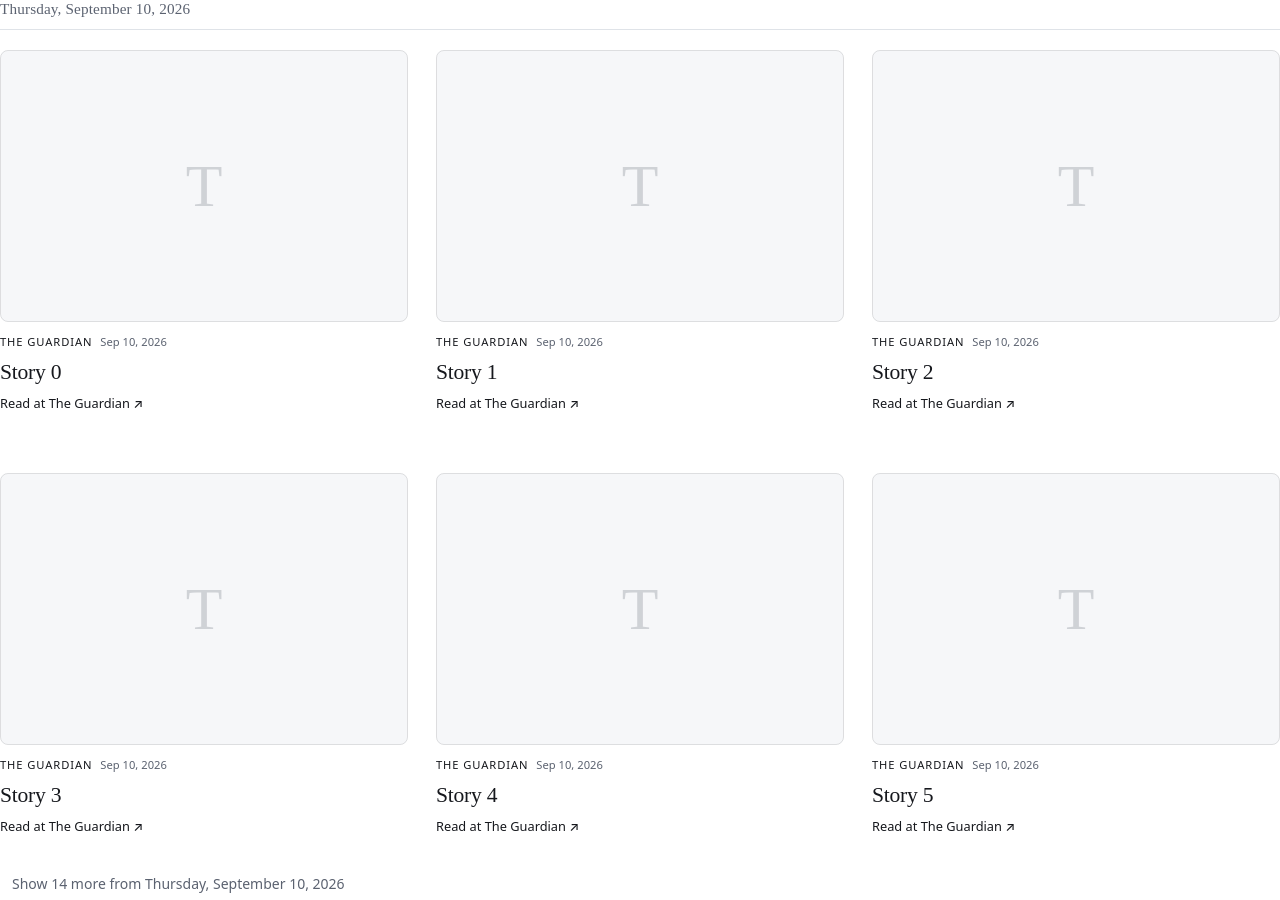
Scenario: DaySection › reveals the rest without fetching anything
This screenshot has width=1280, height=900.
Click the button "Show 14 more from Thursday, September 10, 2026" at (178,884), box [0,868,357,899]
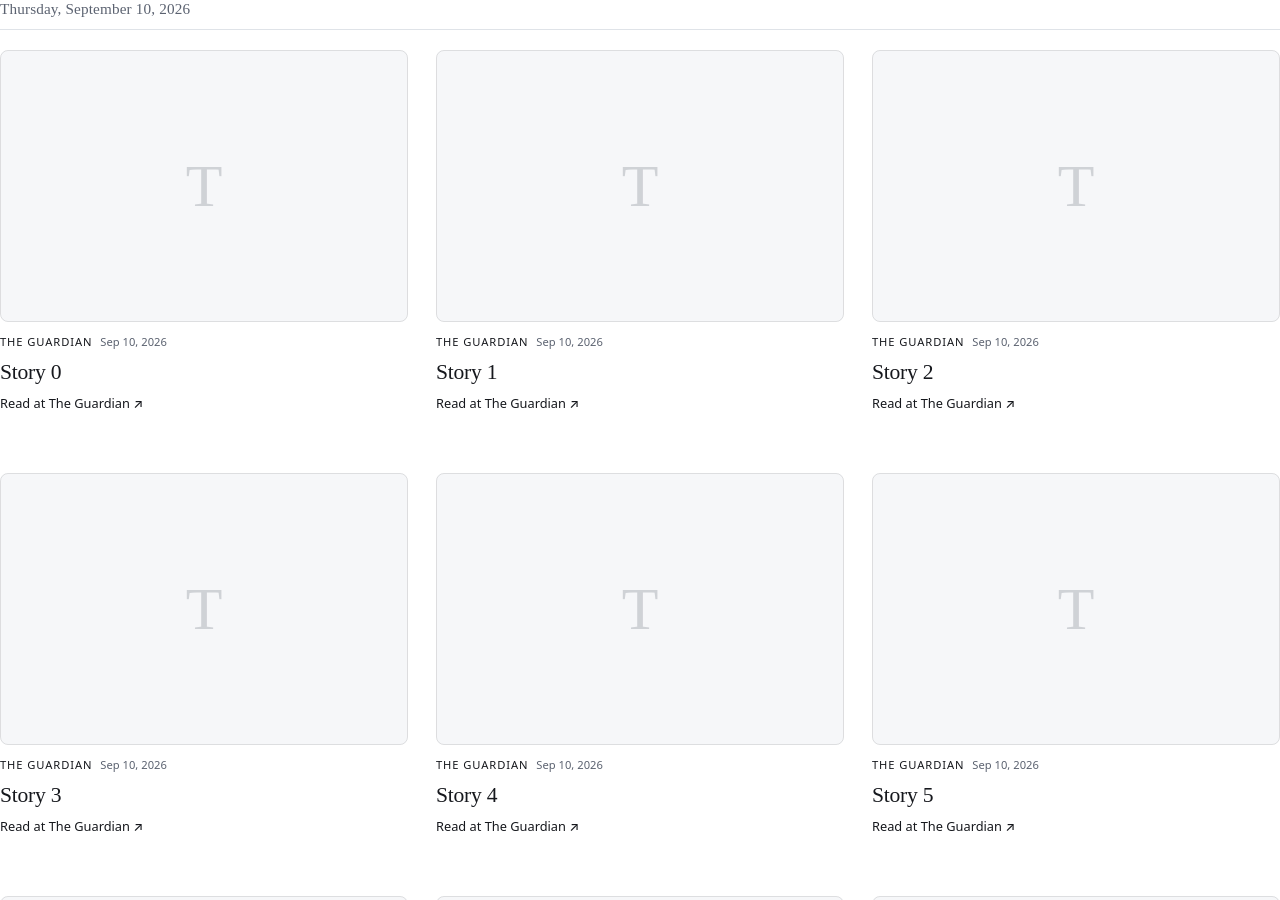
Expected: the button "Show" is gone
